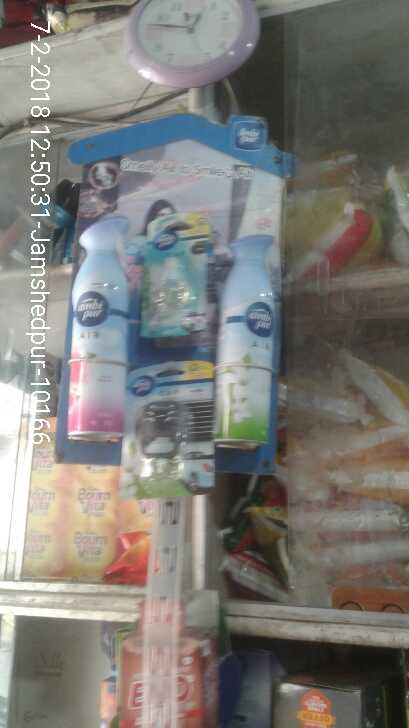ambipure: (59, 207, 134, 451), (215, 227, 282, 459), (141, 210, 211, 341), (125, 366, 221, 458)
